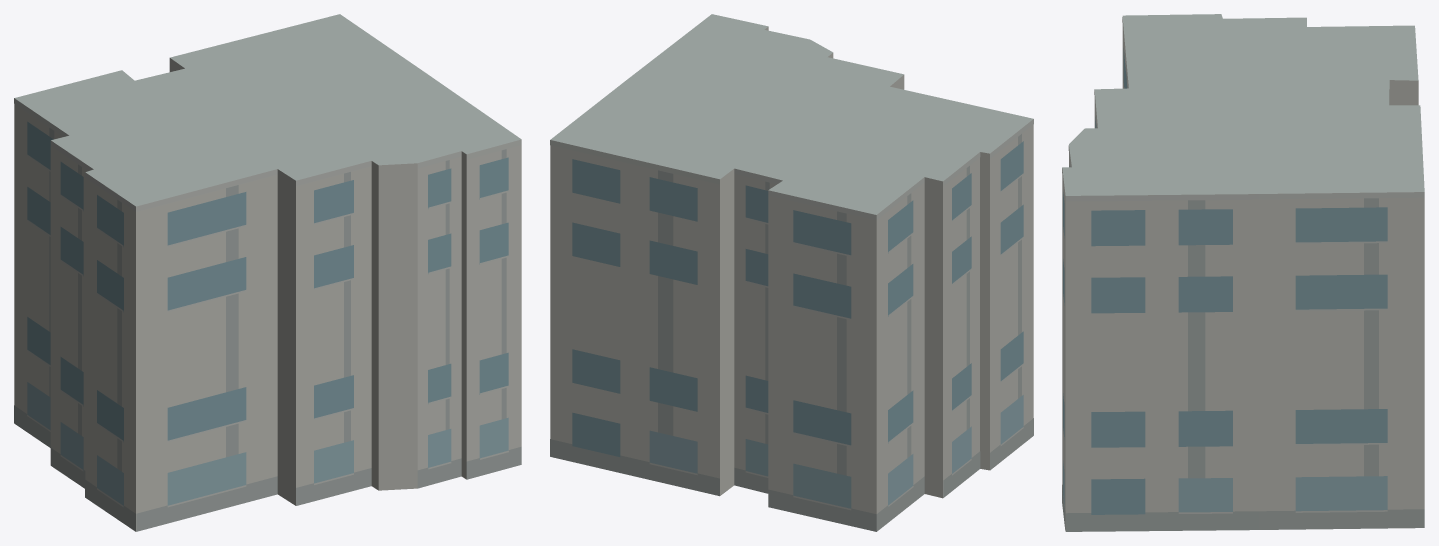
The model's file is survey-upis-32918108.glb.
3 views of the same model, side by side, from view 1: azimuth 30°, elevation 25°; view 2: azimuth 150°, elevation 25°; view 3: azimuth 270°, elevation 25° (orthographic). The views are drawn at different scales.
Visible parts, largest first — view 1: survey-upis-32918108.tmp; view 2: survey-upis-32918108.tmp; view 3: survey-upis-32918108.tmp.
Part boxes in pixels (left/top/right/bottom): survey-upis-32918108.tmp: left=14, top=14, right=521, bottom=531; survey-upis-32918108.tmp: left=550, top=14, right=1033, bottom=531; survey-upis-32918108.tmp: left=1062, top=14, right=1424, bottom=531.
Size of the model in its own units: 16.62 by 14.3 by 13.99.
